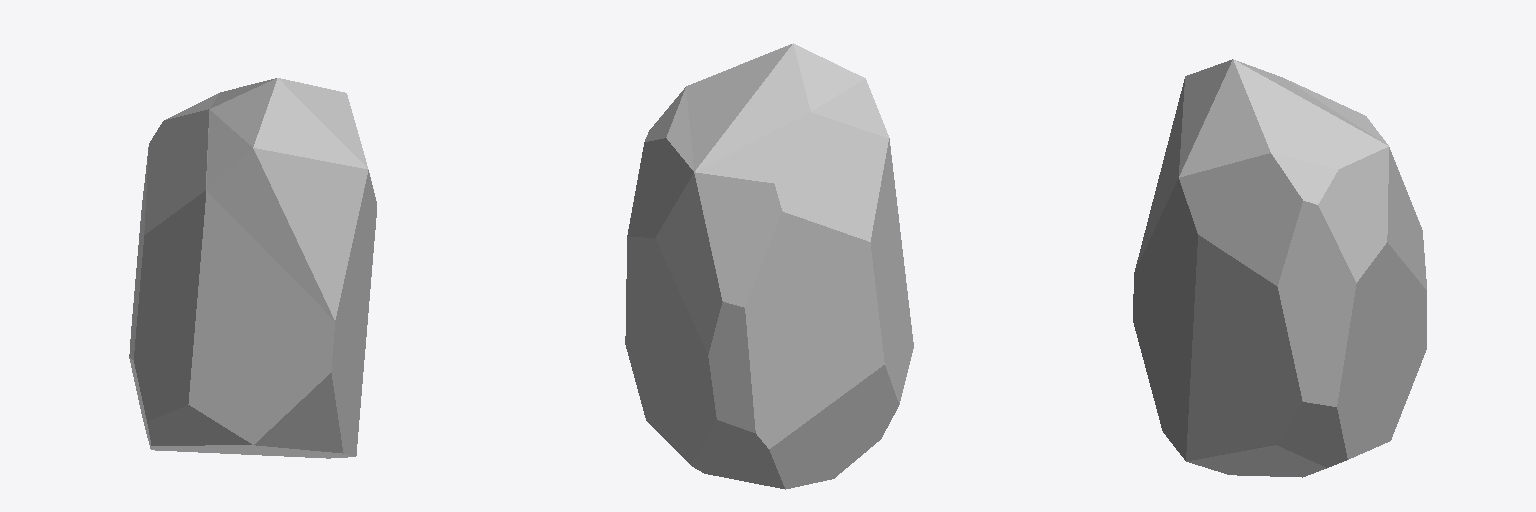
Rendered from Rock_5.obj.
3 views of the same model, side by side, from view 1: azimuth 30°, elevation 25°; view 2: azimuth 150°, elevation 25°; view 3: azimuth 270°, elevation 25° (orthographic).
Visible parts, largest first — view 1: Rock.011; view 2: Rock.011; view 3: Rock.011.
Part boxes in pixels (x1,y1,x2,y2): Rock.011: (129,78,376,458); Rock.011: (625,43,913,489); Rock.011: (1133,59,1426,477).
Size of the model in its own units: 1.13 by 1.76 by 1.2.